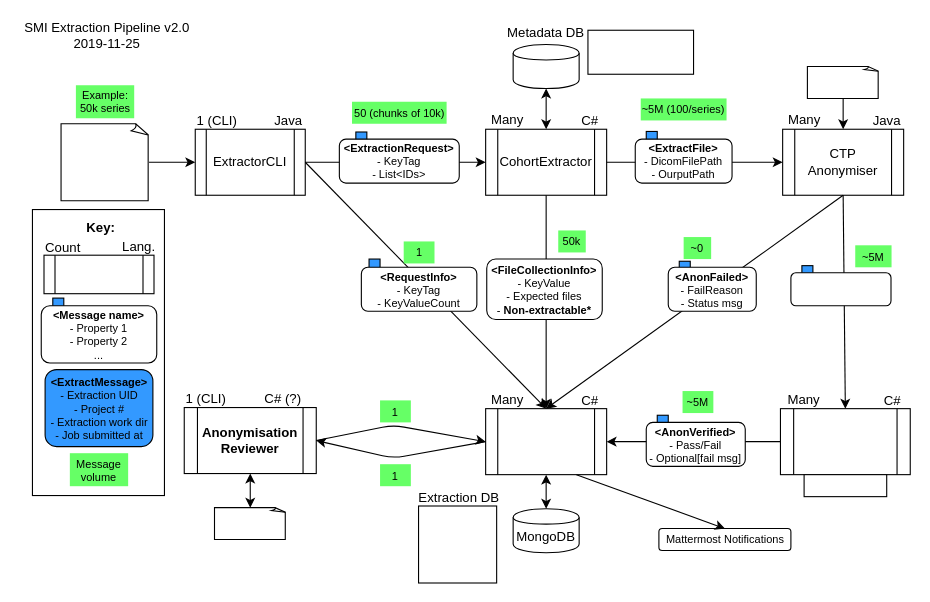
Image size: 930x602. Some labels were removed from this diagram. Here are the shapes that lost their labels. From the top down, the box of each, then its label:
(512, 43, 579, 89): MySQL
(587, 29, 694, 74): Image supertable: - DicomFilePath - IsExtractable
(806, 65, 879, 98): CTP Script
(60, 123, 149, 201): Extraction IDs Either: - Series - Image
(43, 254, 154, 294): Serivce Name
(790, 272, 891, 306): <AnonSuccess> - OutputPath
(485, 408, 607, 475): Cohort Packager
(779, 408, 910, 475): Anonymisation Validator
(803, 474, 887, 497): IsIdentifiable
(213, 507, 286, 540): Review file
(417, 505, 497, 583): Collections: - Ingest - InProgress - ForReview - Completed
